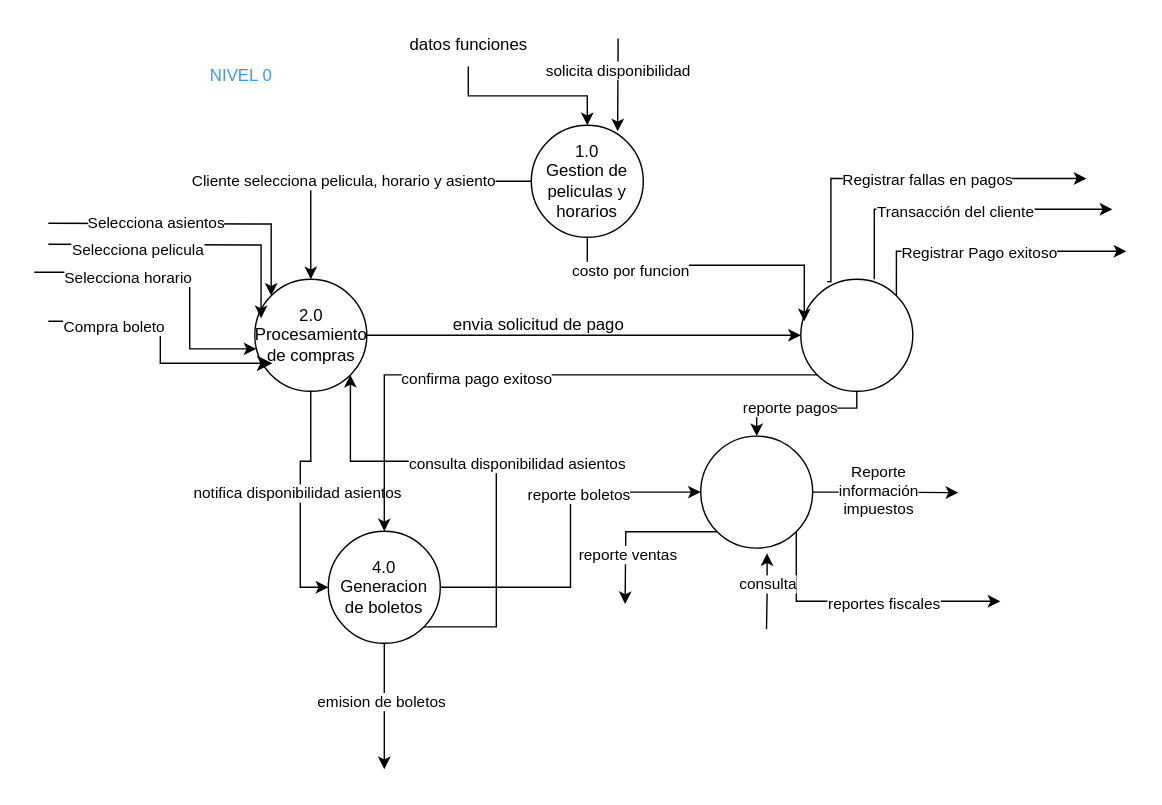
Image size: 1162x805. Some labels were removed from this diagram. Each missing label, with the box of its shape:
3.0 Gestion de pagos: (799, 278, 913, 391)
5.0 Reportes y monitoreo: (699, 435, 813, 548)
